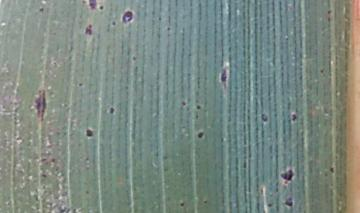tarspot: (32, 87, 48, 122), (216, 62, 231, 90), (278, 167, 296, 187), (121, 8, 137, 25), (55, 205, 85, 212), (83, 22, 95, 38), (82, 127, 97, 139), (193, 128, 208, 139), (257, 112, 271, 123), (85, 1, 98, 12), (284, 194, 294, 208), (288, 112, 298, 124), (107, 104, 117, 114), (194, 102, 203, 113), (36, 5, 47, 14), (109, 19, 119, 28), (328, 165, 336, 175), (179, 98, 187, 108), (75, 80, 85, 88), (265, 201, 275, 208), (178, 199, 185, 209), (41, 171, 48, 181), (130, 53, 138, 61), (98, 3, 105, 12), (39, 156, 47, 163), (319, 67, 326, 74), (325, 9, 332, 16), (50, 157, 57, 163), (201, 199, 209, 204), (327, 16, 331, 23)
